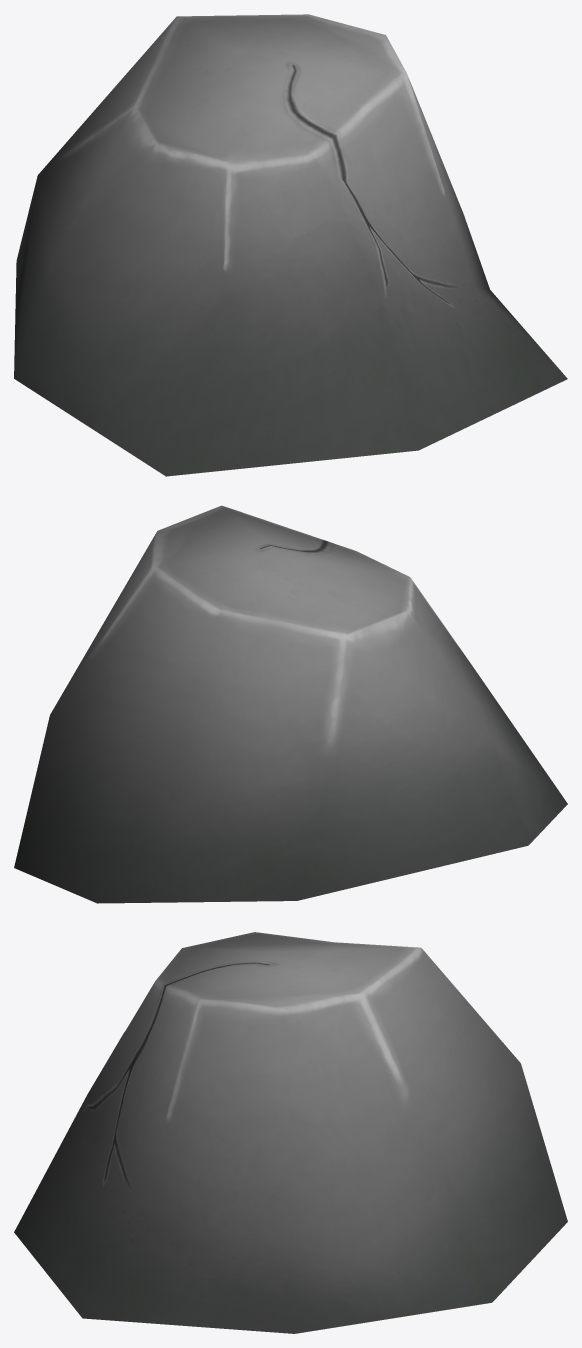
Rendered from 石頭Big.fbx.
3 views of the same model, one above another, from view 1: azimuth 30°, elevation 25°; view 2: azimuth 150°, elevation 25°; view 3: azimuth 270°, elevation 25° (orthographic). The views are drawn at different scales.
Visible parts, largest first — view 1: Cube.002; view 2: Cube.002; view 3: Cube.002.
Boxes of the visible parts, x1,y1,x2,y2 form: Cube.002: (14, 14, 567, 476); Cube.002: (14, 505, 567, 903); Cube.002: (14, 932, 567, 1333).
Size of the model in its own units: 4.84 by 2.69 by 4.97.
1 material, 1 textured.
